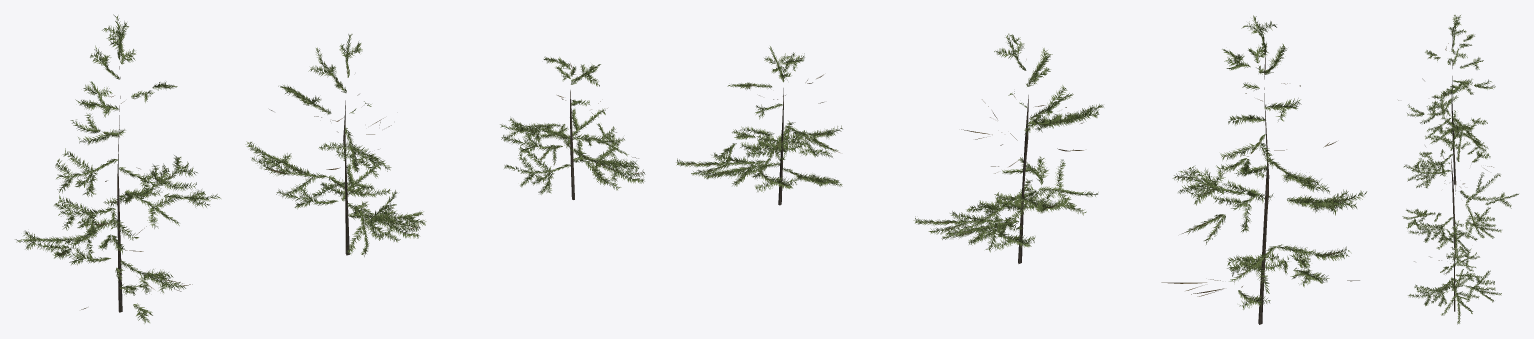
File: fir_sapling.glb
3 views of the same model, side by side, from view 1: azimuth 30°, elevation 25°; view 2: azimuth 150°, elevation 25°; view 3: azimuth 270°, elevation 25° (orthographic). The views are drawn at different scales.
Parts seen in each view (by area): view 1: fir_sapling_a, fir_sapling_b, fir_sapling_c; view 2: fir_sapling_a, fir_sapling_b, fir_sapling_c; view 3: fir_sapling_b, fir_sapling_a, fir_sapling_c.
Boxes of the visible parts, box(x1,y1,x2,y2) form: fir_sapling_a: box(15, 14, 220, 323); fir_sapling_b: box(245, 34, 426, 256); fir_sapling_c: box(500, 56, 645, 199); fir_sapling_a: box(1161, 15, 1366, 324); fir_sapling_b: box(913, 33, 1103, 263); fir_sapling_c: box(676, 46, 842, 205); fir_sapling_b: box(1402, 118, 1518, 261); fir_sapling_a: box(1398, 15, 1495, 194); fir_sapling_c: box(1408, 219, 1501, 324).
Bounding box in the file's own units: 2.68 × 1.25 × 0.818.
2 materials, 2 textured.
